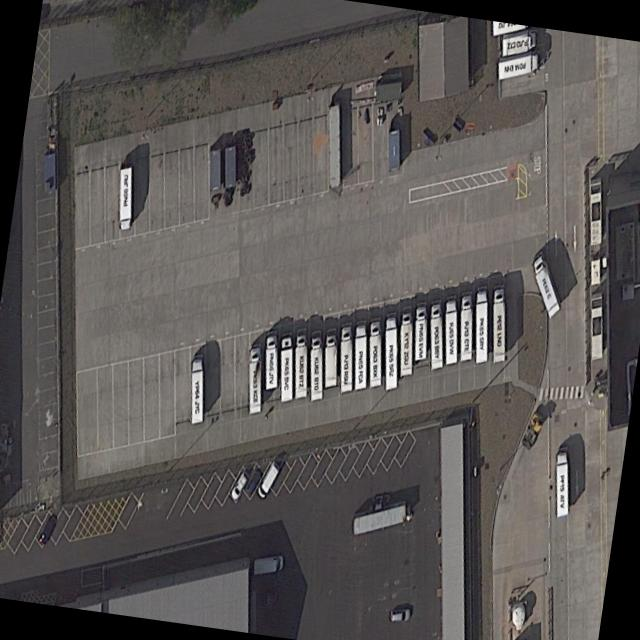large-vehicle: (529, 250, 561, 320), (495, 49, 538, 82), (383, 312, 398, 392), (473, 284, 487, 364), (554, 446, 569, 520), (491, 286, 505, 364), (587, 290, 602, 362), (428, 301, 443, 373), (398, 307, 413, 379), (499, 28, 536, 57), (278, 333, 293, 404), (367, 317, 381, 391), (293, 328, 307, 401), (189, 354, 203, 427), (458, 292, 472, 364), (309, 331, 323, 403), (588, 176, 602, 247), (443, 297, 457, 368), (352, 321, 366, 392), (338, 324, 352, 395), (248, 343, 261, 417), (117, 165, 131, 232), (322, 328, 337, 390), (412, 305, 426, 363), (264, 331, 277, 391)
small-vehicle: (254, 459, 281, 501), (227, 468, 250, 504), (251, 554, 284, 579), (36, 513, 58, 549), (242, 466, 263, 501), (388, 608, 410, 625)
storage-tank: (508, 603, 526, 629)
